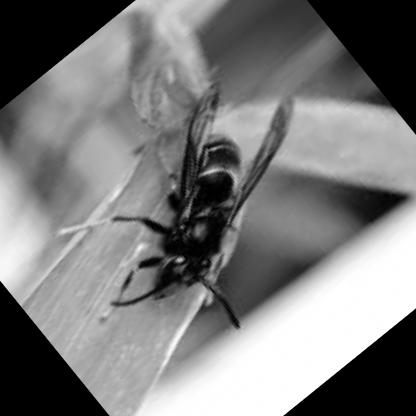asian: (27, 46, 379, 387)
